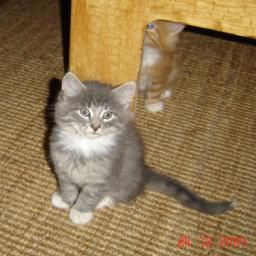catnose: (90, 123, 102, 132)
